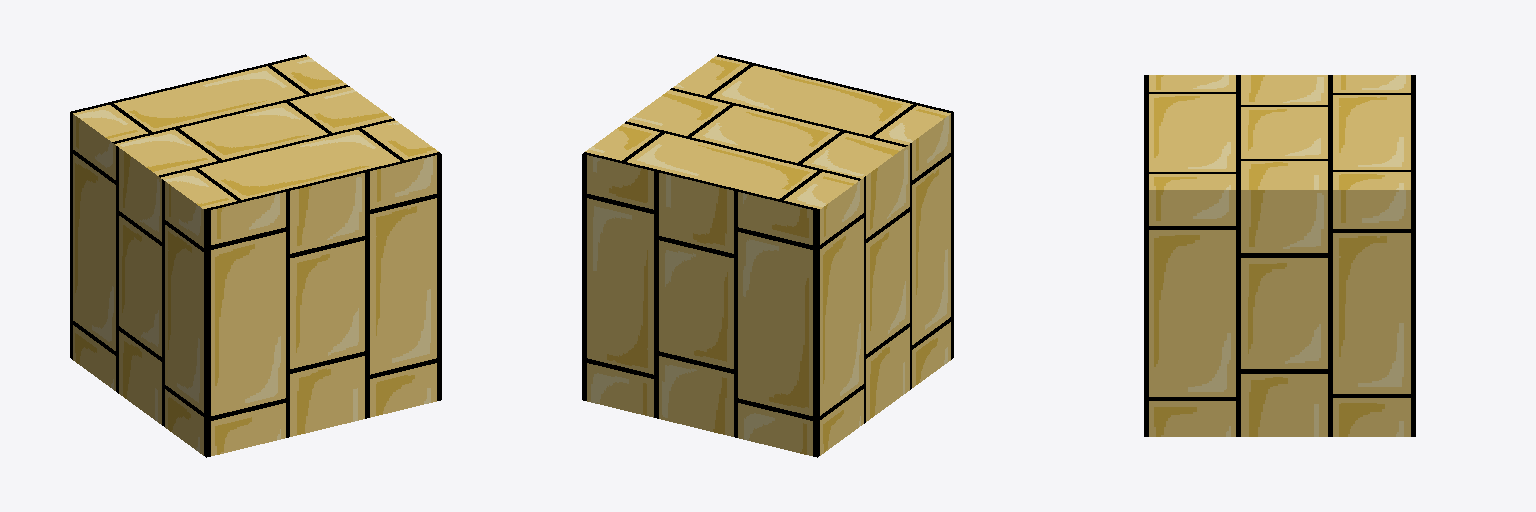
3 renders of one model, left to right at view 1: azimuth 30°, elevation 25°; view 2: azimuth 150°, elevation 25°; view 3: azimuth 270°, elevation 25°, orthographic.
Visible parts, largest first — view 1: Cube; view 2: Cube; view 3: Cube.
Part boxes in pixels (x1,y1,x2,y2): Cube: (70,54,441,457); Cube: (582,54,953,457); Cube: (1144,75,1415,436).
Bounding box in the file's own units: 2 × 2 × 2.
1 materials, 1 textured.